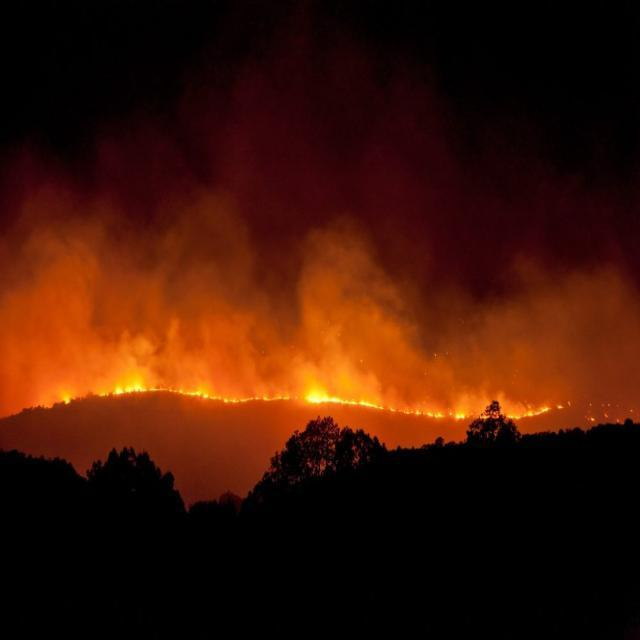Smoke: (0, 25, 638, 508)
